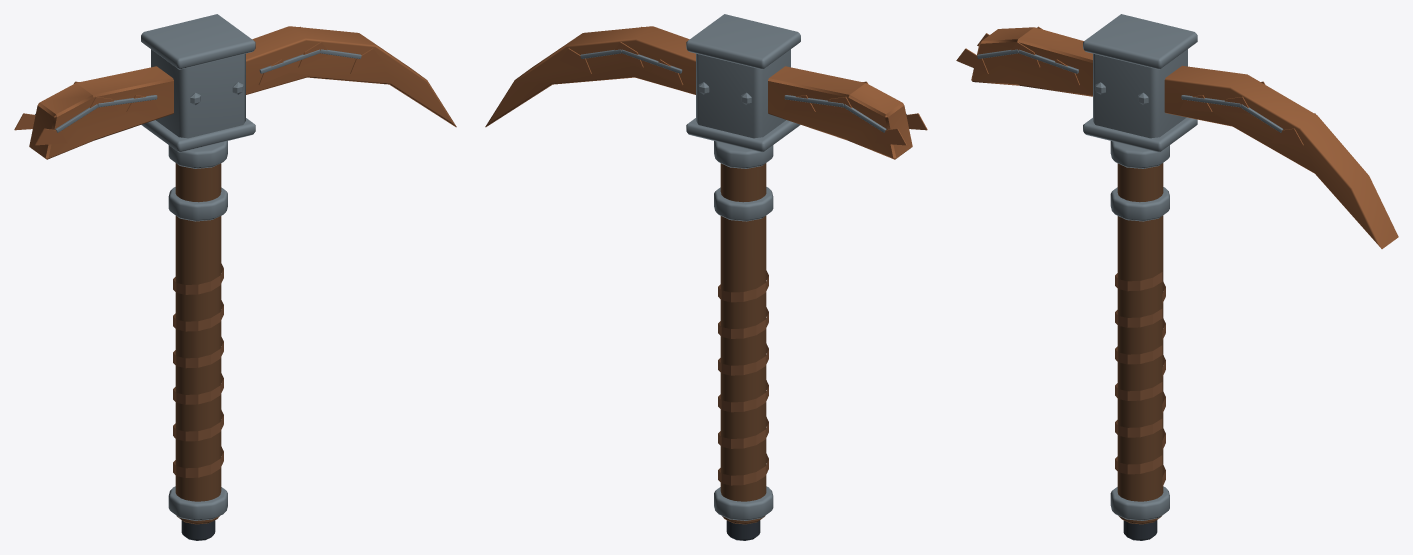
Rendered from enferrujada.glb.
3 views of the same model, side by side, from view 1: azimuth 30°, elevation 25°; view 2: azimuth 150°, elevation 25°; view 3: azimuth 330°, elevation 25° (orthographic).
Parts seen in each view (by area): view 1: enferrujada__Rust.001, enferrujada__Iron.001, enferrujada__Walnut.001, enferrujada__Leather_wrap.001, enferrujada__Blackened_metal.001; view 2: enferrujada__Rust.001, enferrujada__Iron.001, enferrujada__Walnut.001, enferrujada__Leather_wrap.001, enferrujada__Blackened_metal.001; view 3: enferrujada__Rust.001, enferrujada__Iron.001, enferrujada__Walnut.001, enferrujada__Leather_wrap.001, enferrujada__Blackened_metal.001.
Part boxes in pixels (x1,y1,x2,y2): enferrujada__Rust.001: (14,26,456,159); enferrujada__Iron.001: (35,14,361,520); enferrujada__Walnut.001: (175,163,221,524); enferrujada__Leather_wrap.001: (173,263,223,477); enferrujada__Blackened_metal.001: (181,520,215,540); enferrujada__Rust.001: (485,26,927,159); enferrujada__Iron.001: (580,14,906,520); enferrujada__Walnut.001: (720,163,766,524); enferrujada__Leather_wrap.001: (718,270,768,485); enferrujada__Blackened_metal.001: (726,520,760,540); enferrujada__Rust.001: (956,26,1398,248); enferrujada__Iron.001: (977,14,1283,520); enferrujada__Walnut.001: (1117,163,1163,524); enferrujada__Leather_wrap.001: (1115,272,1165,486); enferrujada__Blackened_metal.001: (1123,520,1157,540).
Bounding box in the file's own units: 2.78 × 3.13 × 0.4633.
